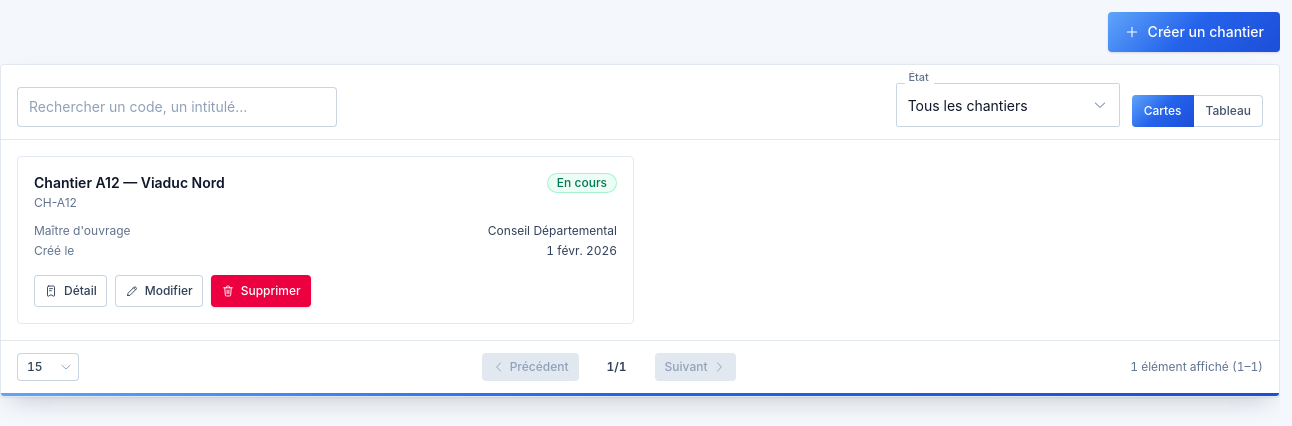
Scenario: ProjectList › bascule entre la vue en cartes et la vue en tableau
Expected: the list item is shown, [17, 156, 634, 324]
What coordinates should you click on to do the following:
click the button "Tableau"
I would click on:
 (1228, 111)
Its box is [1194, 95, 1263, 127].
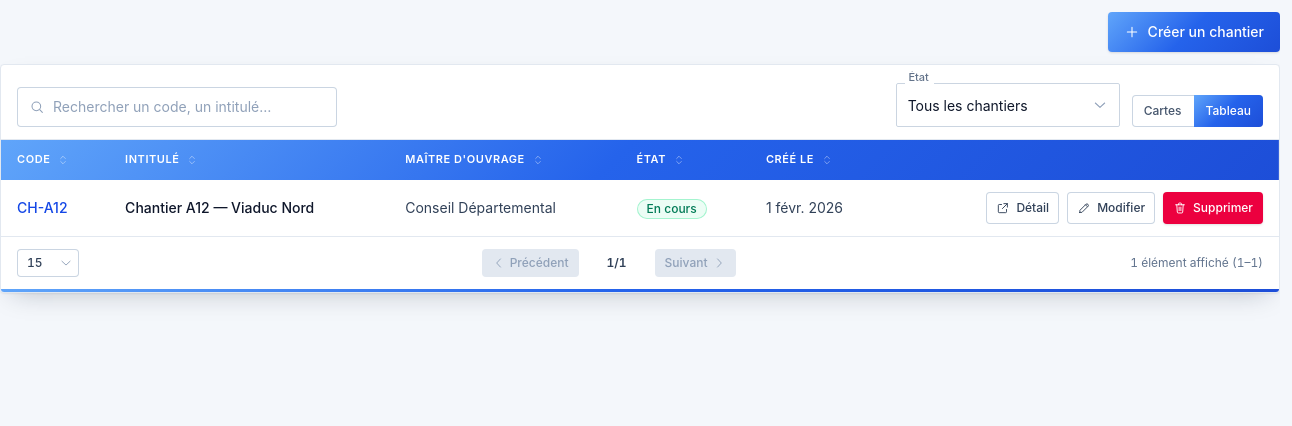
Now the table is shown, box [1, 140, 1279, 236]
Now the list item is gone
